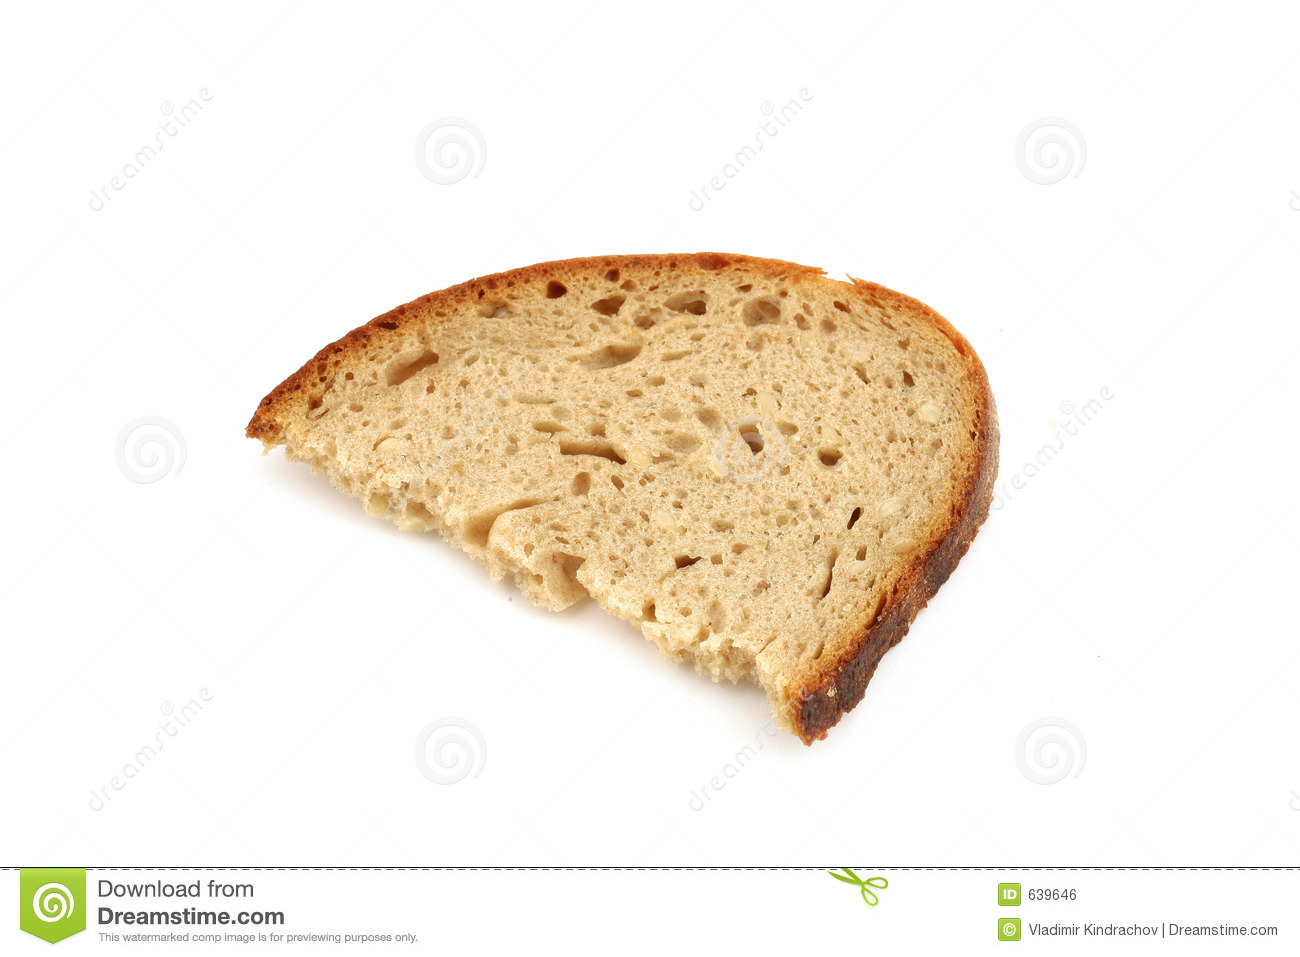slice of bread: (333, 278, 1007, 631)
